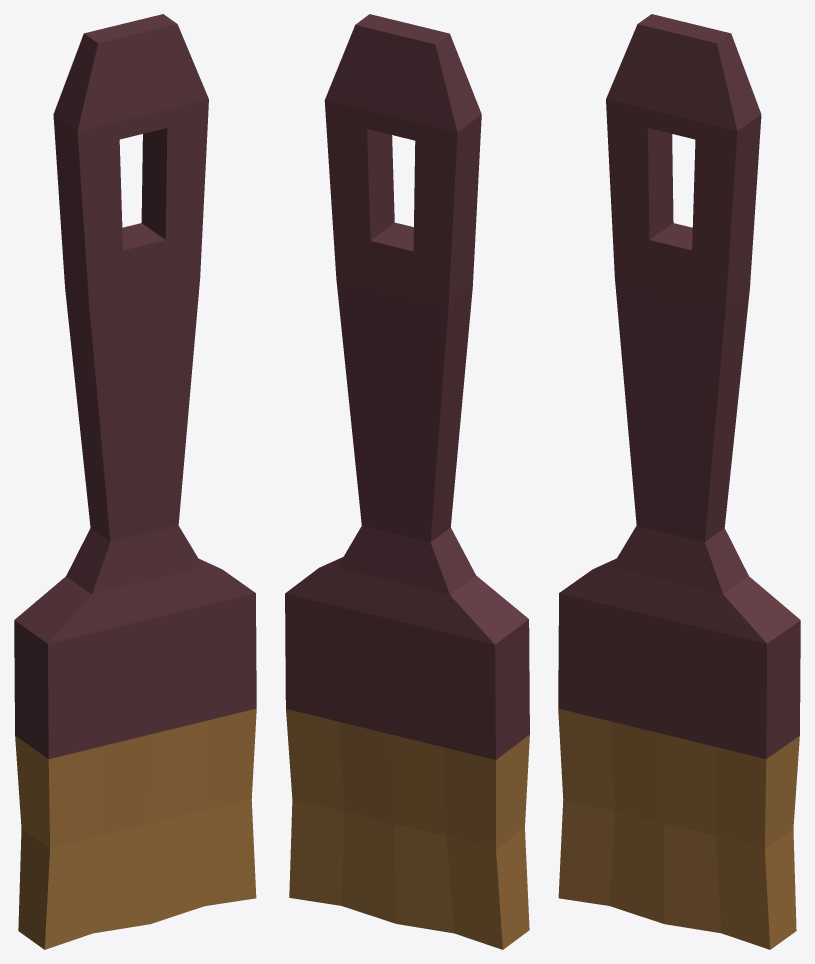
File: brush-straight-medium.fbx
3 views of the same model, side by side, from view 1: azimuth 30°, elevation 25°; view 2: azimuth 150°, elevation 25°; view 3: azimuth 330°, elevation 25° (orthographic).
Visible parts, largest first — view 1: brush-straight-medium; view 2: brush-straight-medium; view 3: brush-straight-medium.
Part boxes in pixels (bbox=[...]): brush-straight-medium: bbox=[14, 14, 256, 949]; brush-straight-medium: bbox=[285, 14, 529, 949]; brush-straight-medium: bbox=[558, 14, 800, 949].
Bounding box in the file's own units: 0.061 × 0.2429 × 0.0172.
